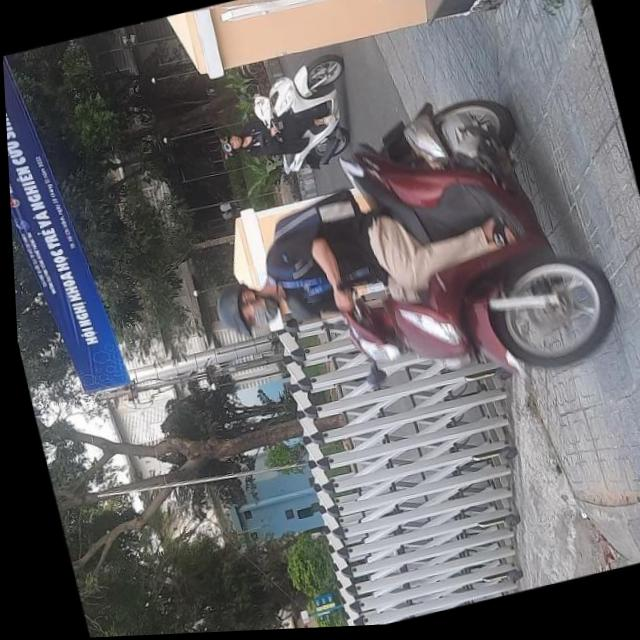WITH_HELMET: (203, 280, 254, 347)
